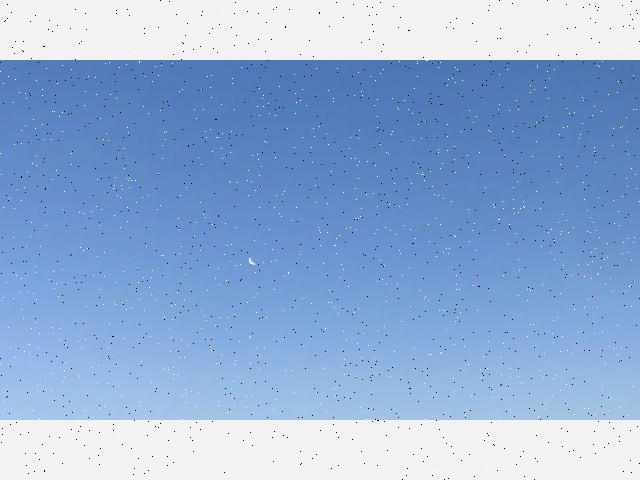Anti-Drone: (244, 253, 260, 269)
